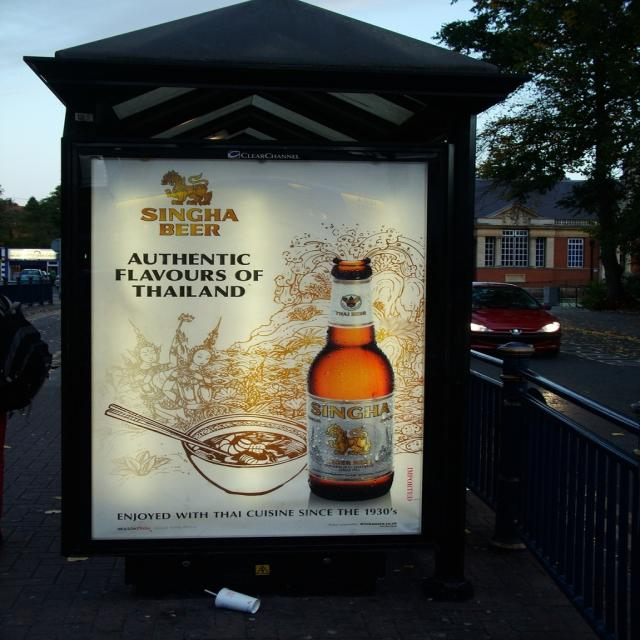singha: (306, 396, 397, 484), (140, 166, 243, 241)
